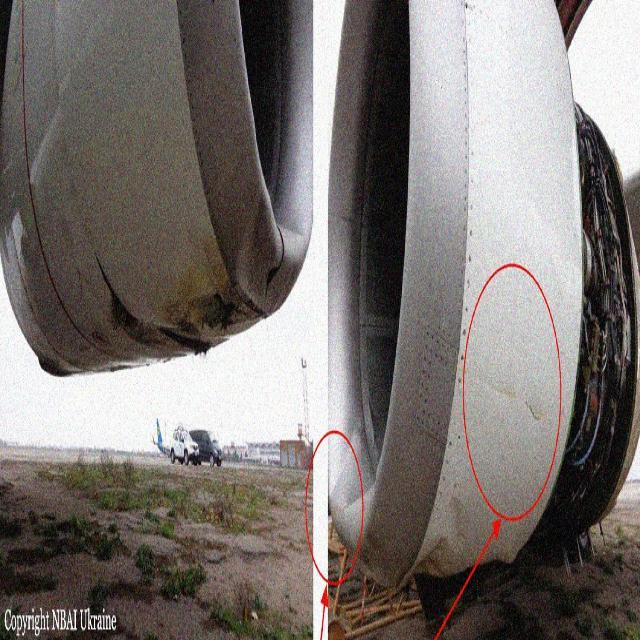crack: (523, 389, 545, 429)
dent: (235, 190, 280, 315), (412, 495, 469, 577)
